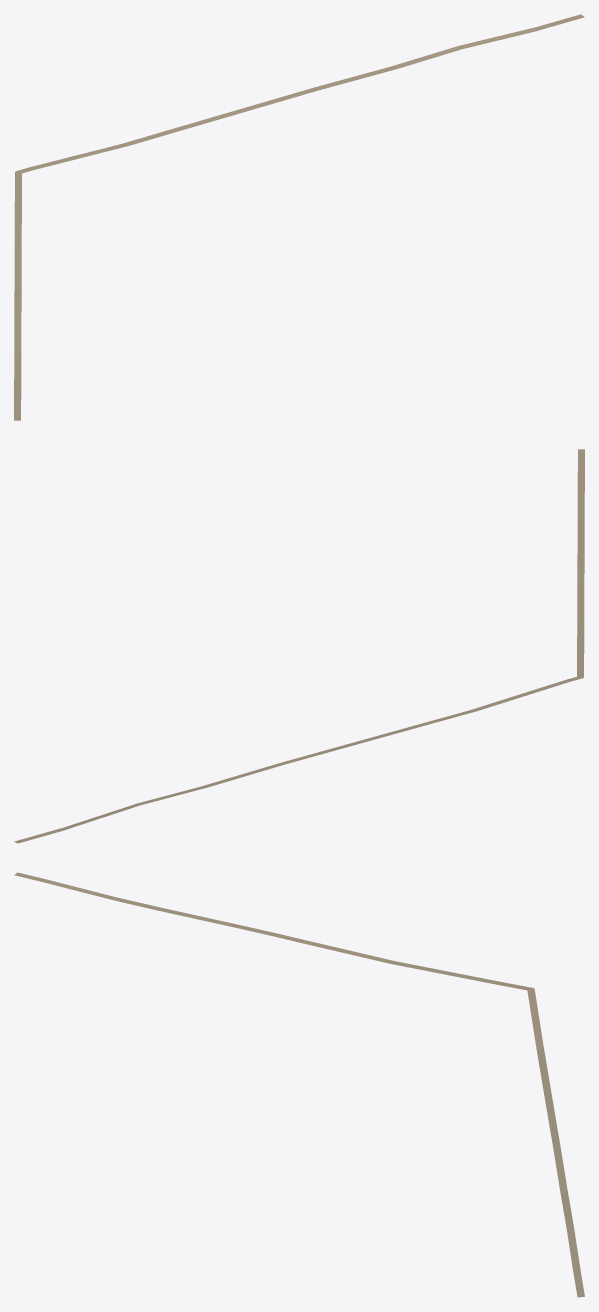
Rendered from farm_6_4_track.glb.
The picture shows the model from 3 angles, top to bottom: view 1: azimuth 30°, elevation 25°; view 2: azimuth 210°, elevation 25°; view 3: azimuth 270°, elevation 25°; orthographic projection. The views are drawn at different scales.
Visible parts, largest first — view 1: geometry_0; view 2: geometry_0; view 3: geometry_0.
Boxes of the visible parts, box(x1,y1,x2,y2) form: geometry_0: box(14, 14, 584, 420); geometry_0: box(14, 449, 584, 843); geometry_0: box(14, 872, 584, 1297).
Bounding box in the file's own units: 447 × 5.7 × 250.
